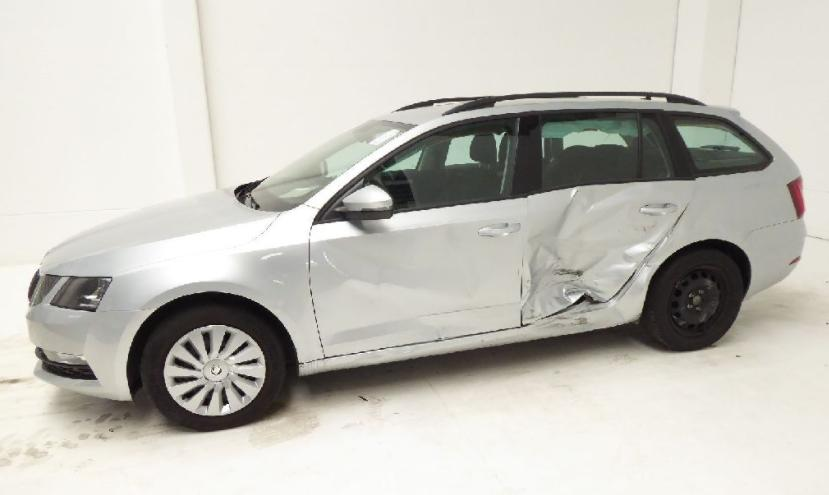Back-bumper: (741, 219, 806, 302)
Back-door: (521, 110, 697, 326)
Back-window: (541, 114, 681, 191), (666, 114, 771, 175)
Fender: (96, 204, 326, 364)
Front-bumper: (28, 277, 155, 401)
Front-door: (308, 112, 530, 358)
Front-window: (321, 118, 520, 220)
Grille: (28, 267, 62, 307)
Headlight: (50, 277, 112, 311)
Hood: (41, 185, 281, 278)
Mirror: (343, 185, 393, 219)
Quarter-panel: (649, 158, 800, 264)
Rocker-panel: (299, 257, 660, 377)
Roof: (372, 99, 667, 126)
Tail-light: (787, 176, 805, 218)
Windshield: (237, 118, 415, 211)
